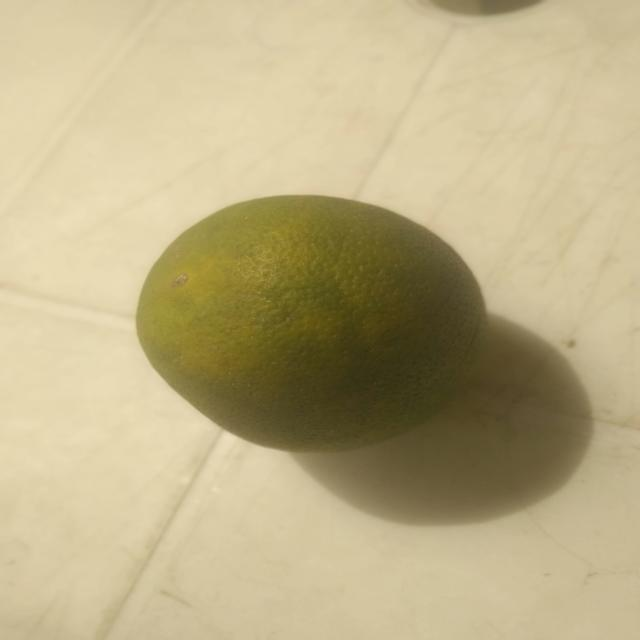Unripe: (133, 190, 494, 459)
